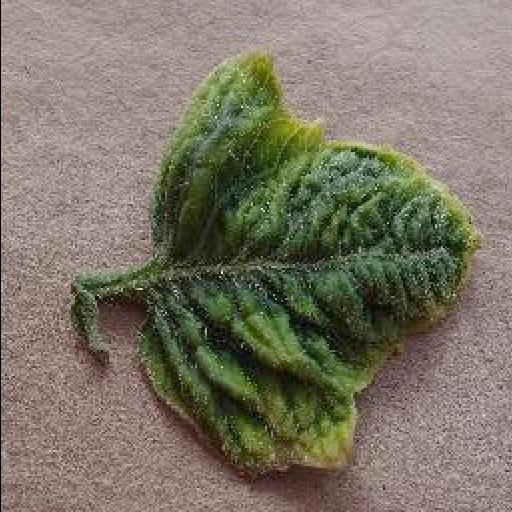disease_tomato: (136, 48, 484, 474)
